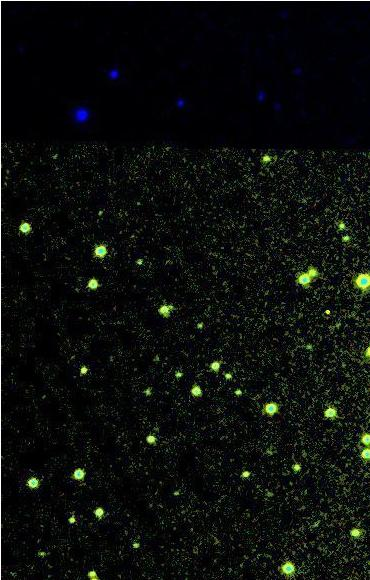star: (312, 297, 342, 327)
